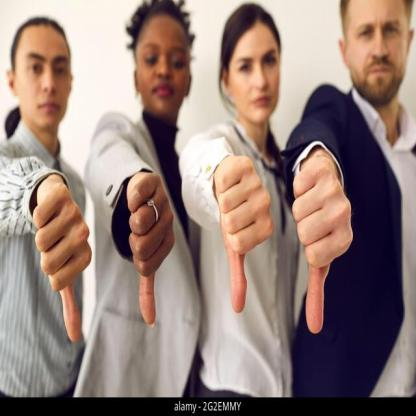Thumbs-Down: (286, 146, 354, 334), (208, 146, 276, 318), (29, 172, 97, 341), (116, 165, 172, 331)
